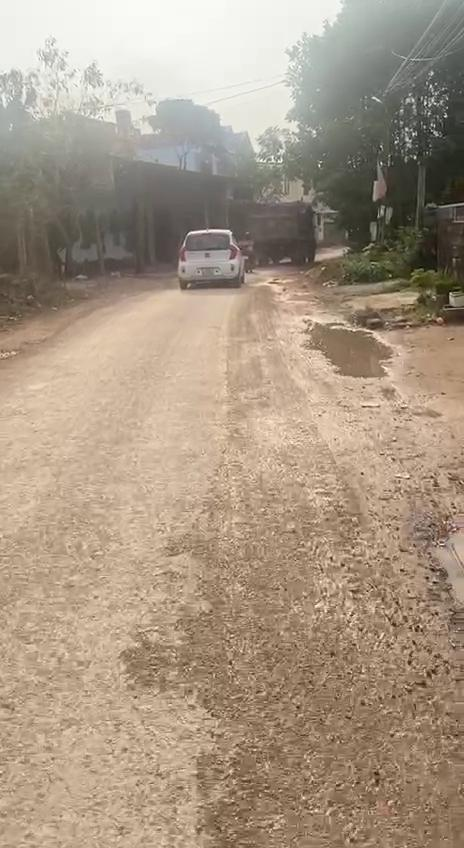pothole: (402, 506, 464, 624), (300, 312, 397, 382)
